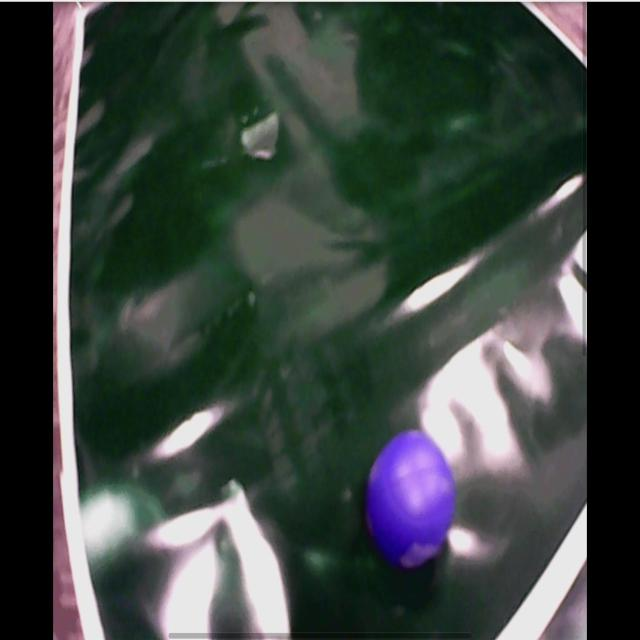ball: (367, 427, 458, 567)
